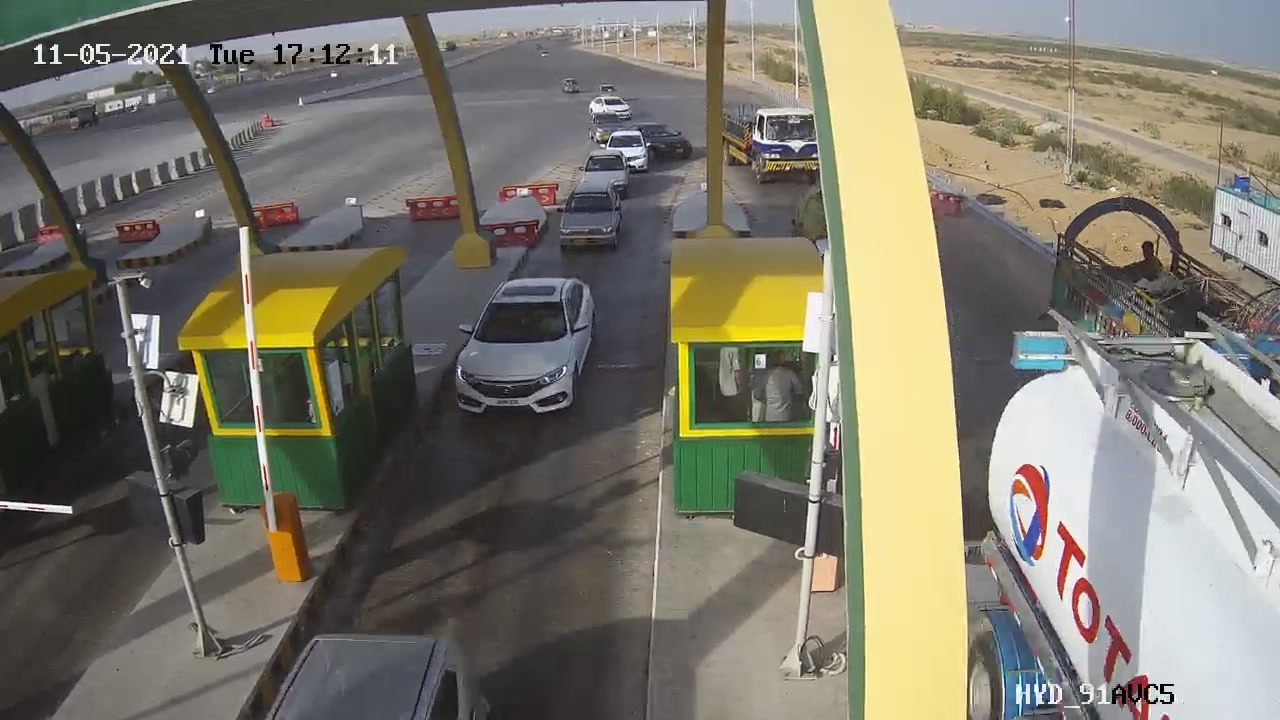F1: (430, 260, 613, 435)
